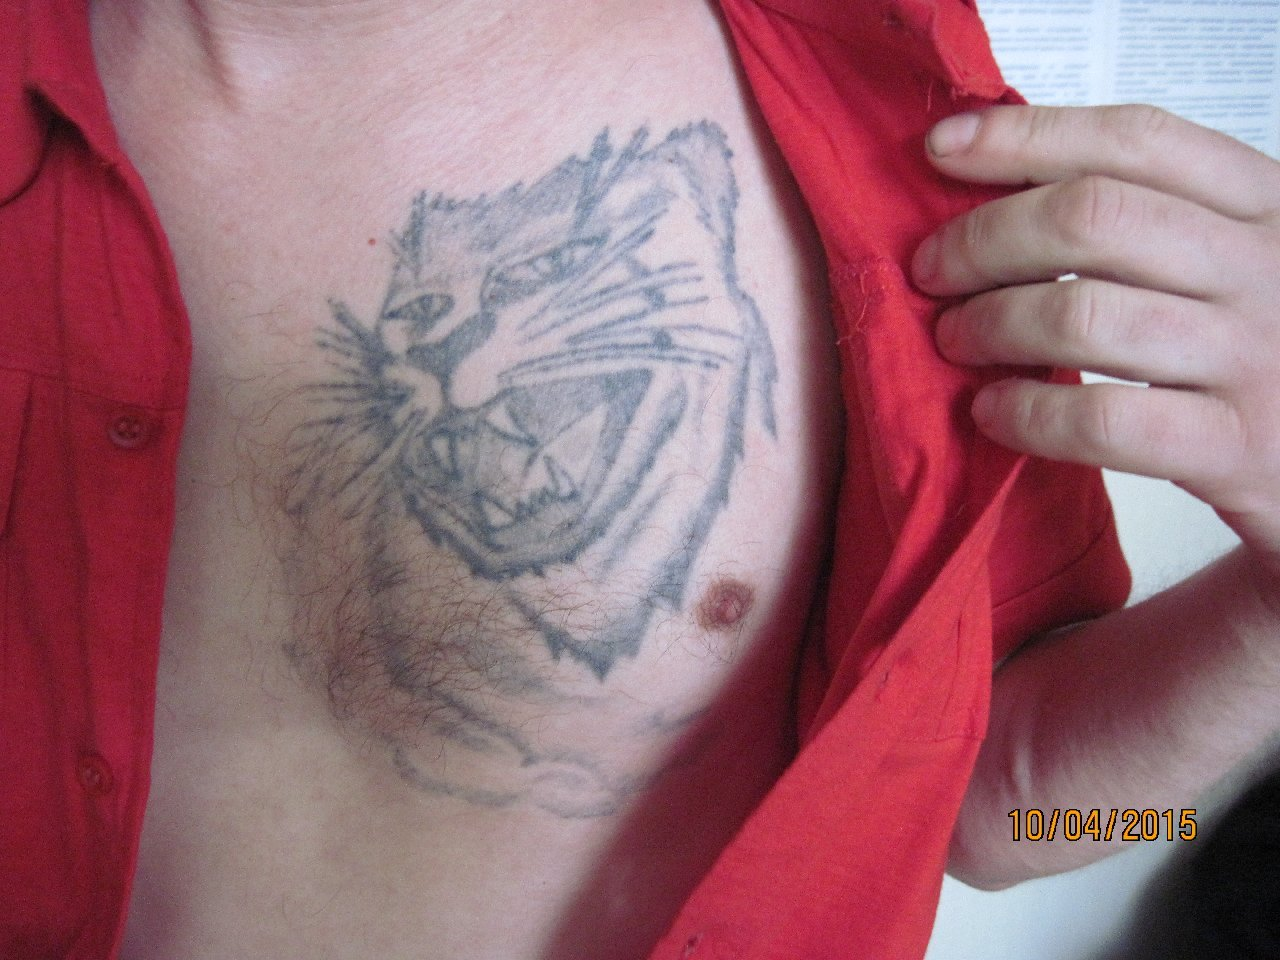tatu5_tigr: (339, 121, 749, 592)
